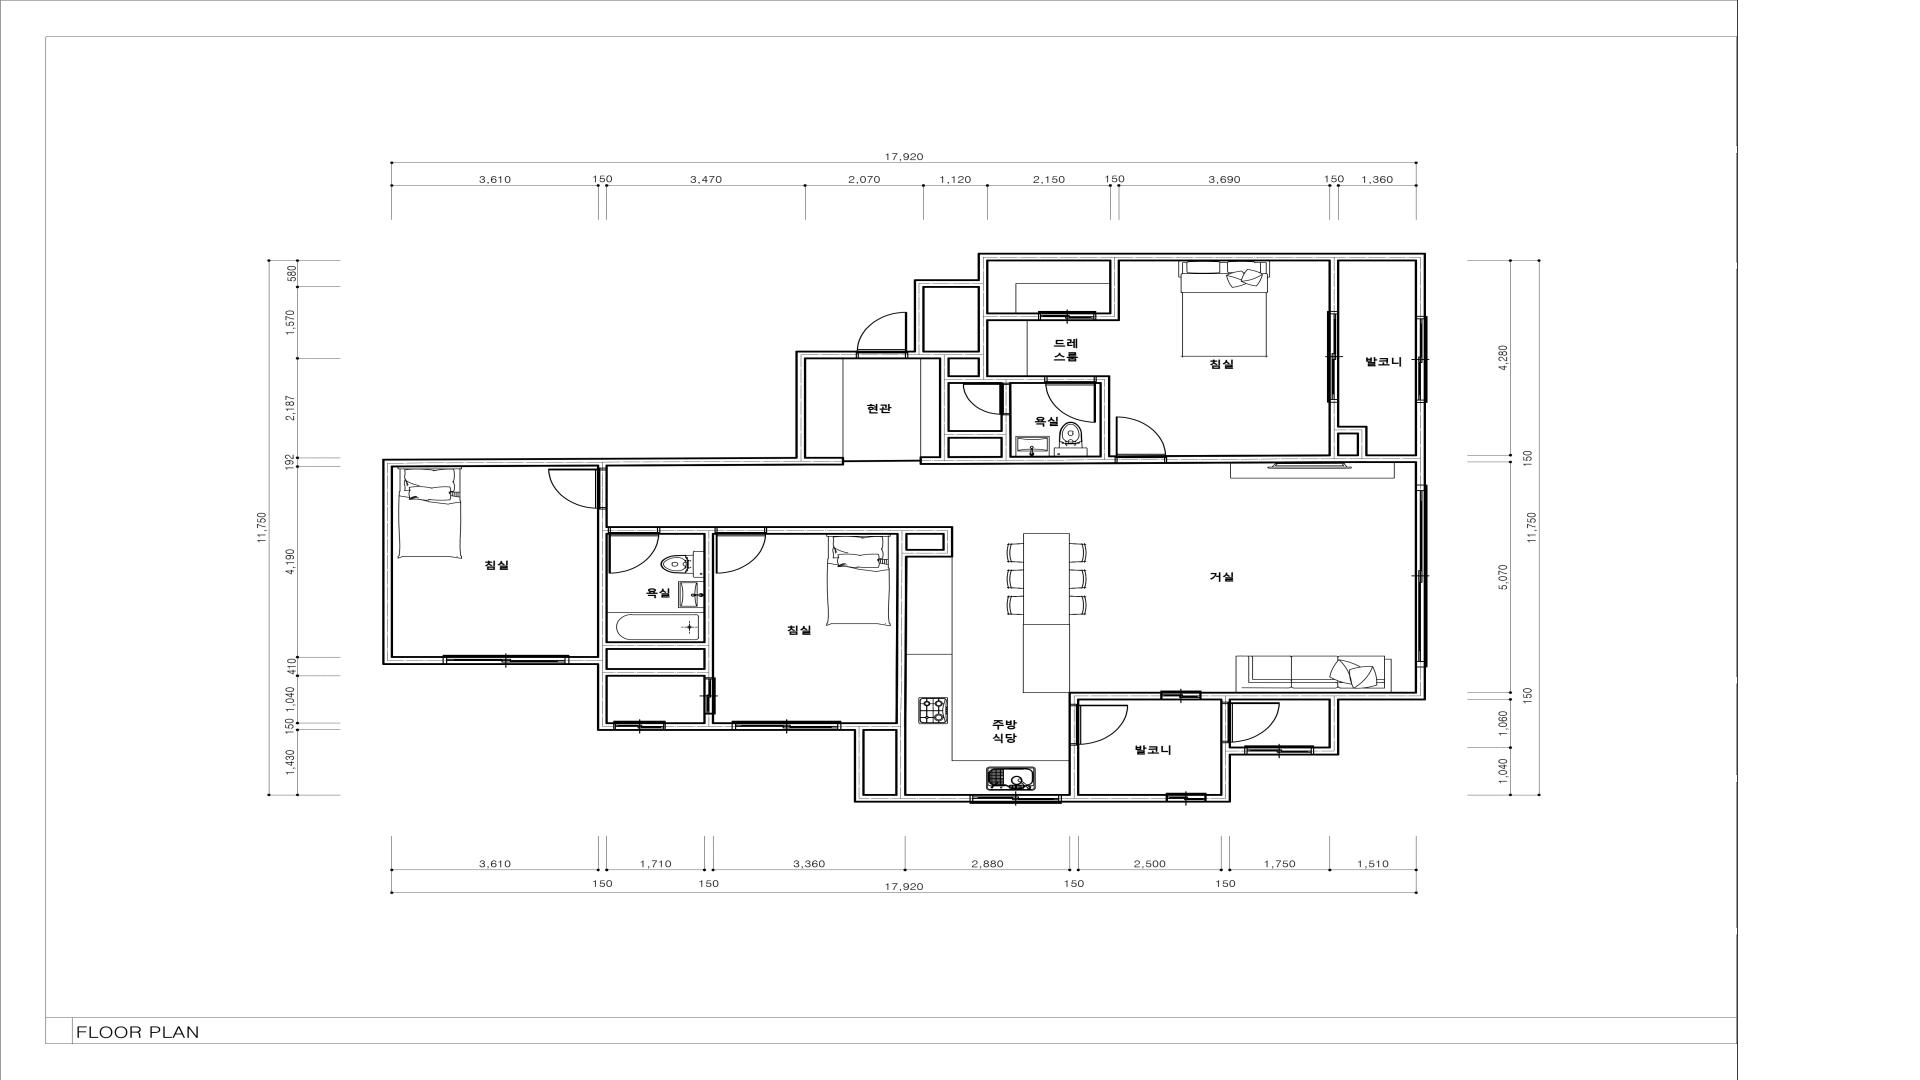door: (1220, 702, 1280, 744), (1044, 376, 1097, 423), (1114, 417, 1167, 464), (856, 311, 909, 359), (715, 526, 767, 574), (608, 526, 661, 574), (1068, 704, 1129, 745), (549, 468, 608, 509), (963, 384, 1011, 415), (1038, 311, 1096, 322)
wall: (393, 458, 795, 468), (989, 253, 1425, 261), (895, 535, 907, 794), (1167, 455, 1415, 464), (382, 459, 393, 657), (919, 455, 1114, 465), (703, 534, 715, 678), (767, 526, 943, 535), (597, 509, 608, 657), (1201, 692, 1328, 702), (795, 359, 806, 465), (853, 794, 969, 803), (977, 287, 989, 376), (939, 359, 949, 456), (1062, 794, 1166, 803), (608, 641, 703, 650), (1415, 404, 1425, 485), (949, 376, 1044, 384), (1100, 384, 1110, 455), (853, 731, 865, 794), (914, 280, 924, 351), (608, 669, 703, 676), (1328, 692, 1415, 700), (1080, 692, 1160, 700), (1328, 402, 1340, 455), (597, 665, 608, 723), (1328, 261, 1340, 311), (1415, 261, 1425, 316), (382, 655, 443, 665), (1328, 700, 1340, 746), (1109, 261, 1120, 313), (666, 723, 732, 731), (1068, 745, 1079, 794), (924, 280, 989, 287), (795, 351, 856, 359), (949, 430, 1001, 439), (989, 313, 1038, 322), (1001, 415, 1011, 456), (661, 526, 715, 534), (924, 351, 977, 359), (1220, 756, 1230, 794), (570, 655, 608, 665), (1415, 667, 1425, 700), (943, 526, 953, 558), (907, 549, 943, 558), (977, 253, 989, 280), (806, 458, 844, 465), (1313, 746, 1340, 756), (865, 723, 895, 731), (1220, 746, 1245, 756), (1357, 434, 1367, 455), (1340, 426, 1367, 434), (1207, 794, 1230, 803), (1096, 313, 1120, 320), (841, 723, 865, 731), (1068, 692, 1080, 704), (597, 723, 613, 731), (909, 351, 924, 359), (1097, 376, 1110, 384), (703, 715, 715, 723), (1220, 744, 1232, 746)
window: (1415, 485, 1427, 667), (1327, 311, 1340, 402), (443, 655, 570, 665), (732, 720, 841, 731), (1415, 316, 1428, 404), (969, 794, 1062, 804), (1245, 745, 1313, 756), (613, 721, 666, 731), (703, 678, 716, 715), (1166, 793, 1207, 803), (1160, 691, 1201, 700)
